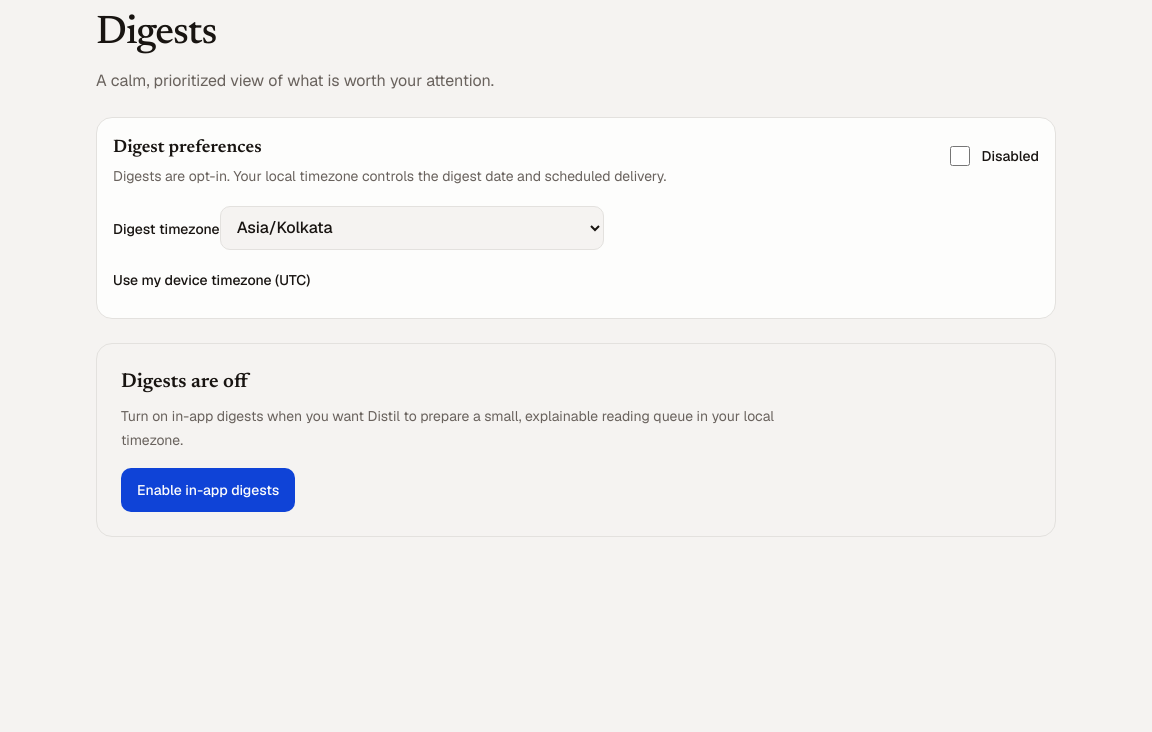
Test: DigestExperience › shows disabled opt-in state and saves enablement
Expected: the heading "Digests are off" is shown, [121,372,248,392]
Click the button "Enable in-app digests".
click(208, 490)  # box [121,468,295,512]
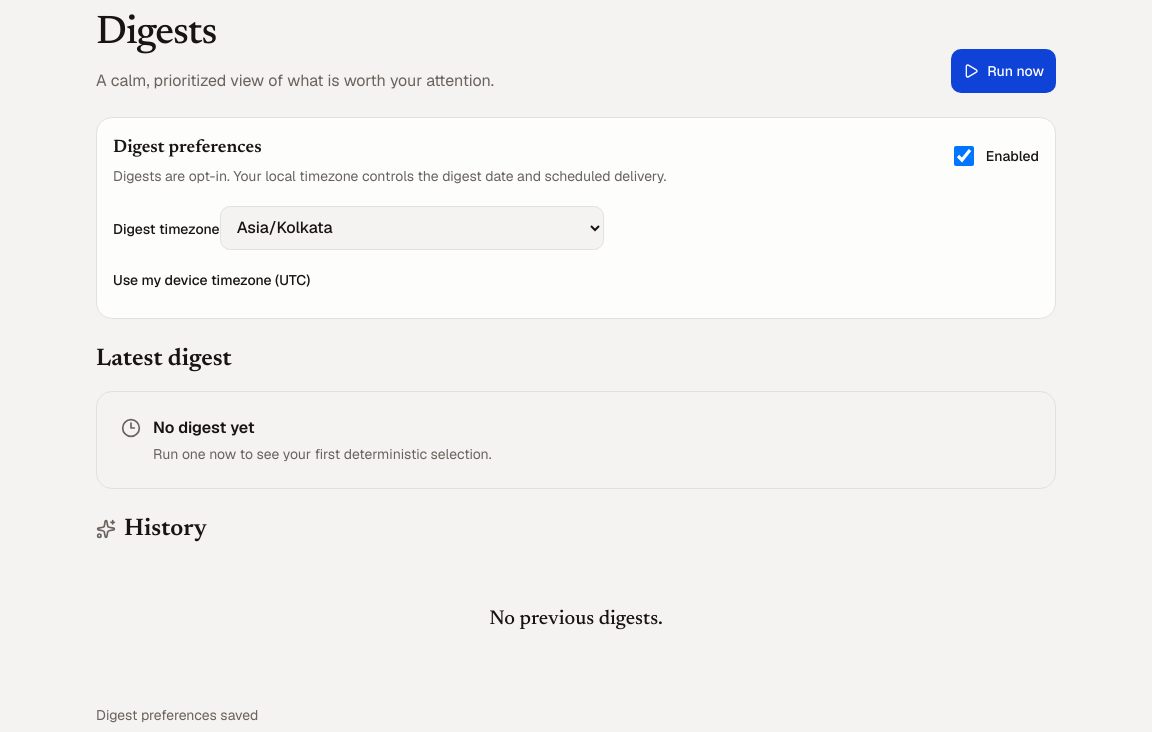
Expected: the text "Digest preferences saved" is shown, [96,706,258,724]
